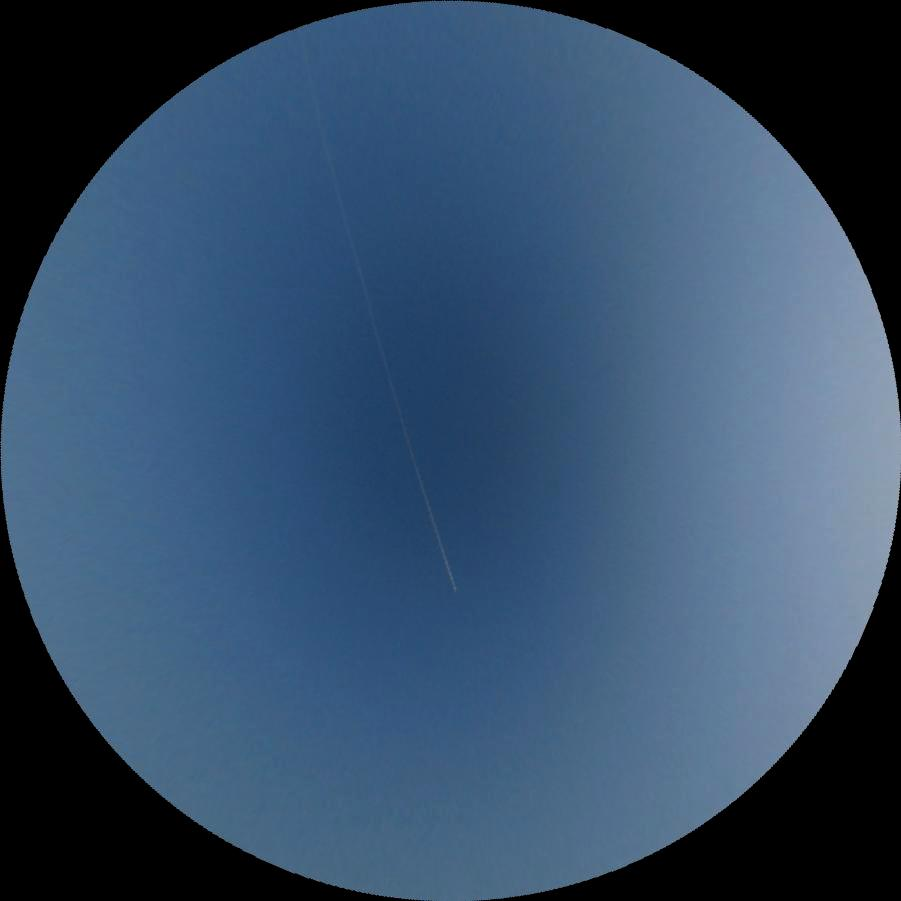contrail young: (290, 27, 457, 595)
